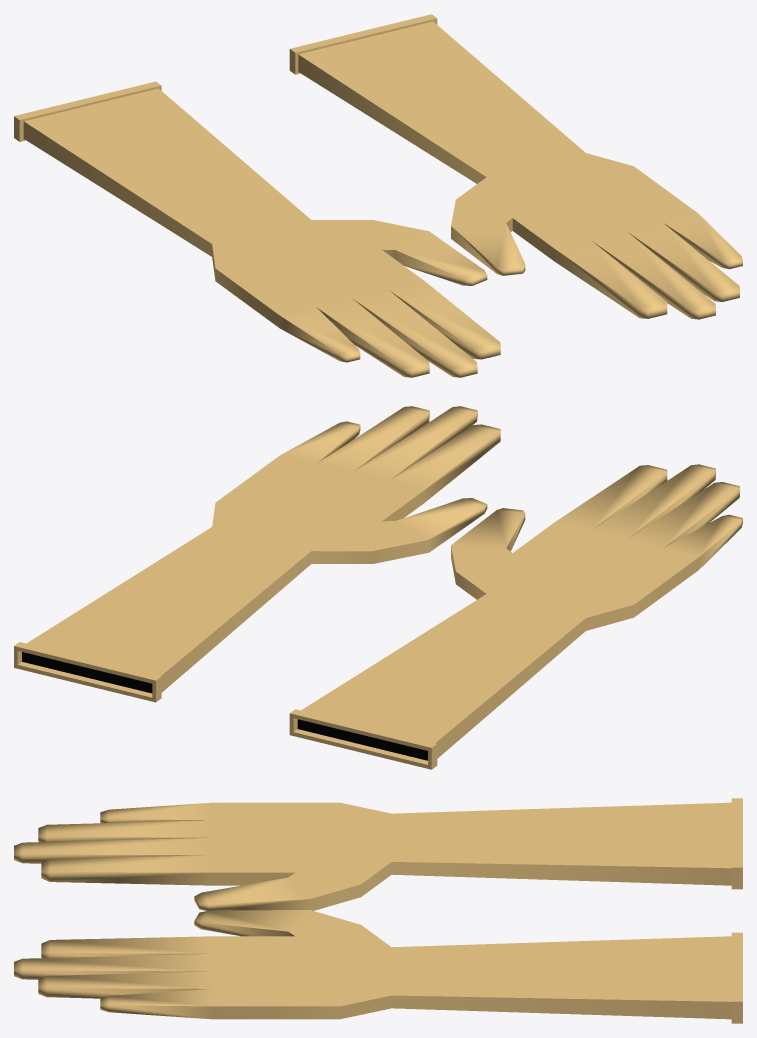
Rendered from ppe_rubber_gloves_003.glb.
The picture shows the model from 3 angles, top to bottom: view 1: azimuth 30°, elevation 25°; view 2: azimuth 150°, elevation 25°; view 3: azimuth 270°, elevation 25°; orthographic projection.
Visible parts, largest first — view 1: ppe_rubber_gloves, ppe_rubber_gloves.003; view 2: ppe_rubber_gloves.003, ppe_rubber_gloves; view 3: ppe_rubber_gloves.003, ppe_rubber_gloves.
Boxes of the visible parts, x1,y1,x2,y2 form: ppe_rubber_gloves: (14, 81, 500, 377); ppe_rubber_gloves.003: (289, 14, 742, 319); ppe_rubber_gloves.003: (14, 406, 500, 702); ppe_rubber_gloves: (289, 464, 742, 769); ppe_rubber_gloves.003: (14, 910, 742, 1023); ppe_rubber_gloves: (14, 798, 742, 910).
Bounding box in the file's own units: 19.05 × 0.9506 × 28.82.
1 material, 1 textured.
